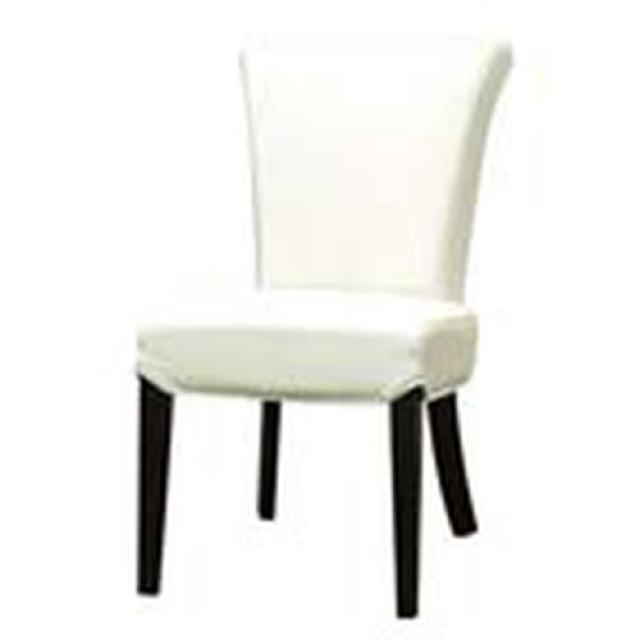chair: (134, 24, 509, 621)
